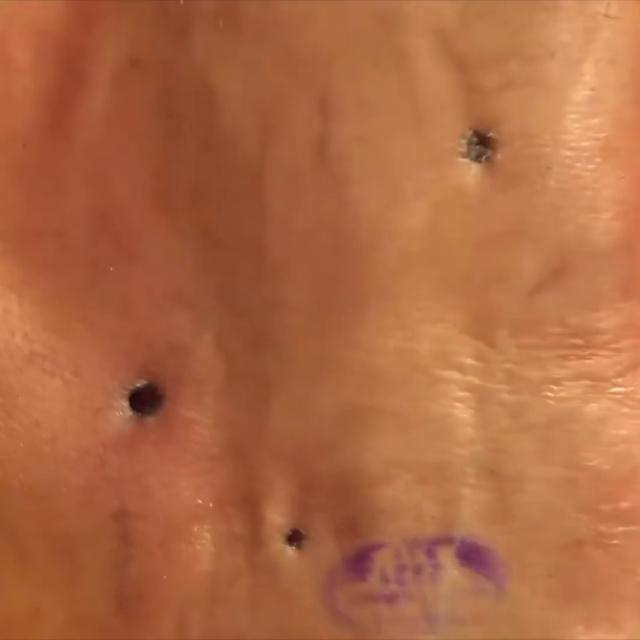bullets: (451, 126, 506, 174), (120, 378, 170, 422), (284, 528, 307, 554)
